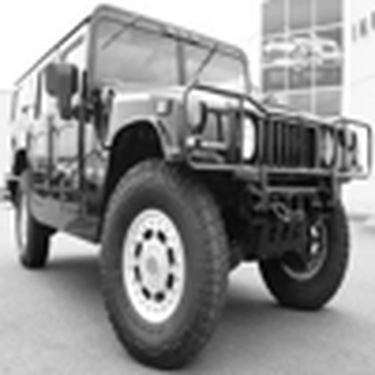car: (1, 5, 354, 363), (277, 25, 324, 76), (252, 33, 290, 67), (316, 27, 340, 79)
